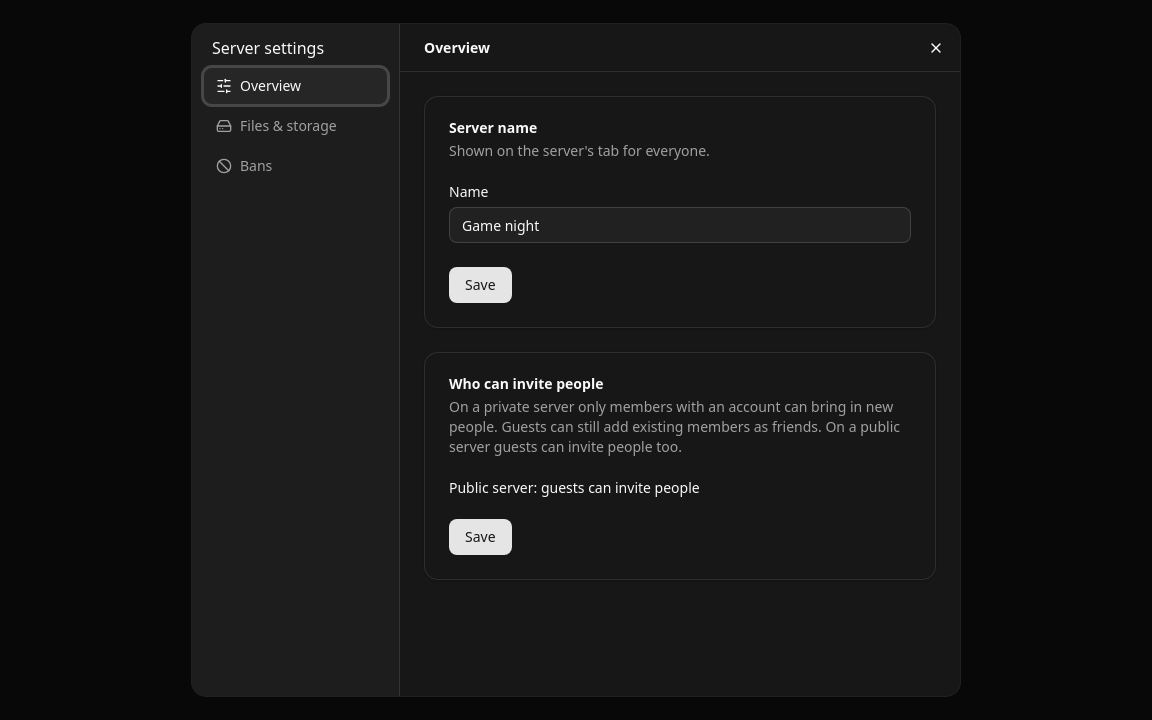
Test: ServerSettingsDialog › switches to the file limits
Click the button "Files & storage": (296, 126) [204,108,387,144]
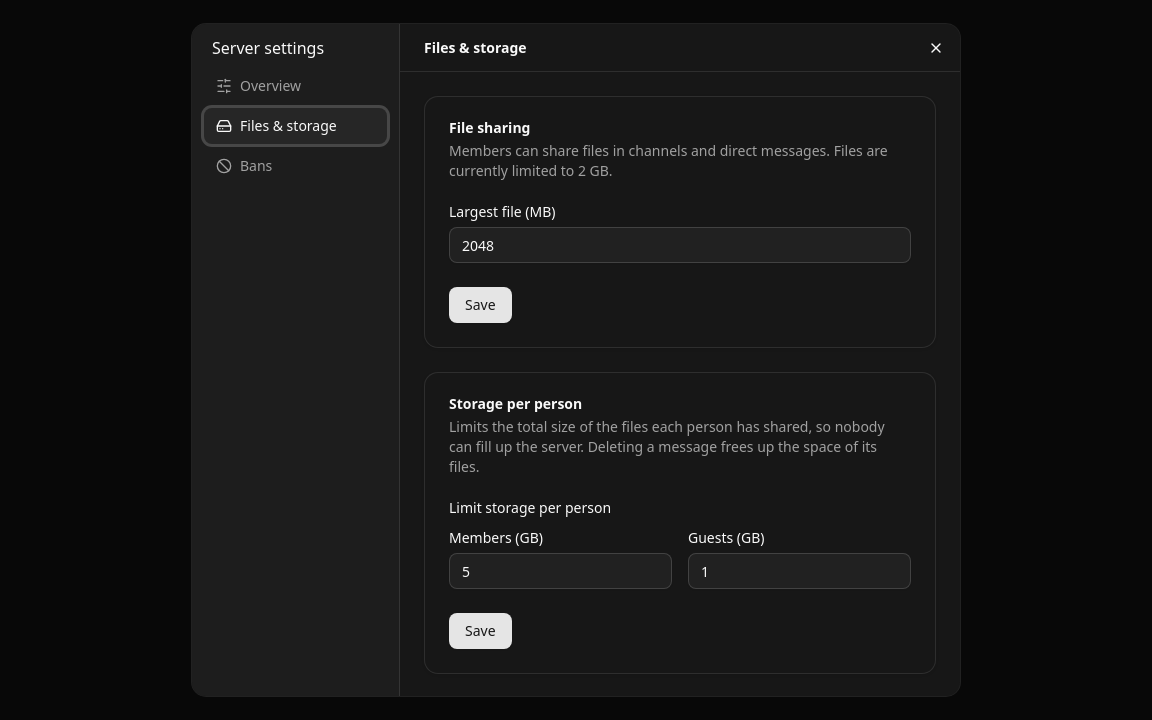
Check: the heading "Files & storage" is shown, box [424,38,527,58]
